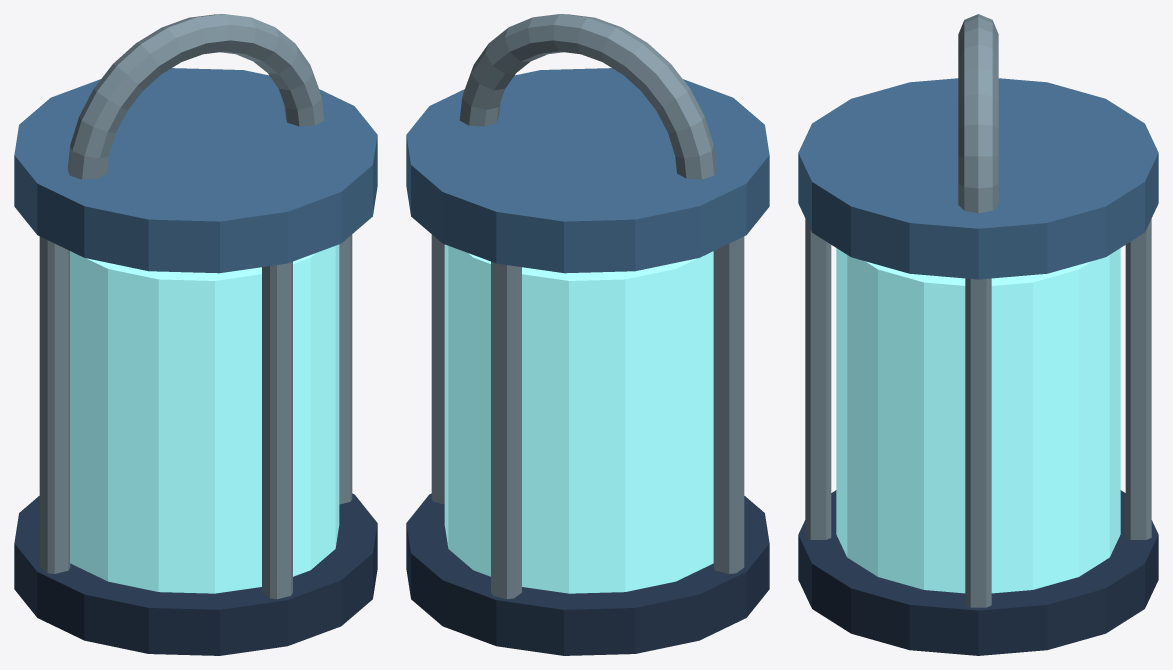
Rendered from shore_portable_lantern.glb.
The picture shows the model from 3 angles, left to right: view 1: azimuth 30°, elevation 25°; view 2: azimuth 150°, elevation 25°; view 3: azimuth 270°, elevation 25°; orthographic projection.
Parts seen in each view (by area): view 1: lantern_diffuser, lantern_cap, lantern_base, lantern_guard (×3), lantern_handle; view 2: lantern_diffuser, lantern_cap, lantern_base, lantern_guard (×3), lantern_handle; view 3: lantern_diffuser, lantern_cap, lantern_guard (×3), lantern_base, lantern_handle.
Boxes of the visible parts, x1=… form: lantern_diffuser: x1=70, y1=244, x2=339, y2=593; lantern_cap: x1=14, y1=68, x2=377, y2=273; lantern_base: x1=14, y1=493, x2=377, y2=655; lantern_guard (×3): x1=39, y1=234, x2=352, y2=599; lantern_handle: x1=67, y1=14, x2=324, y2=179; lantern_diffuser: x1=444, y1=244, x2=713, y2=593; lantern_cap: x1=406, y1=68, x2=769, y2=273; lantern_base: x1=406, y1=493, x2=769, y2=655; lantern_guard (×3): x1=431, y1=234, x2=744, y2=599; lantern_handle: x1=459, y1=14, x2=716, y2=179; lantern_diffuser: x1=836, y1=248, x2=1120, y2=593; lantern_cap: x1=798, y1=78, x2=1158, y2=279; lantern_guard (×3): x1=805, y1=219, x2=1151, y2=607; lantern_base: x1=798, y1=490, x2=1158, y2=655; lantern_handle: x1=958, y1=14, x2=998, y2=213.
Bounding box in the file's own units: 0.18 × 0.3045 × 0.18.
